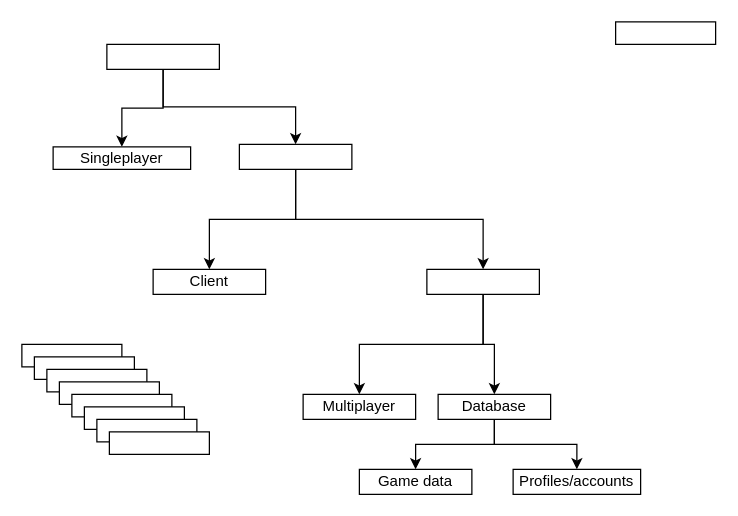
The diagram is 738 pixels wide and 516 high, and some of its shapes have lost their labels. Here are the shapes that lost their labels. From the top down, the centre of each, then its label:
At [162,56]: "Tanks".
At [295,156]: "Networking".
At [482,281]: "Server".
